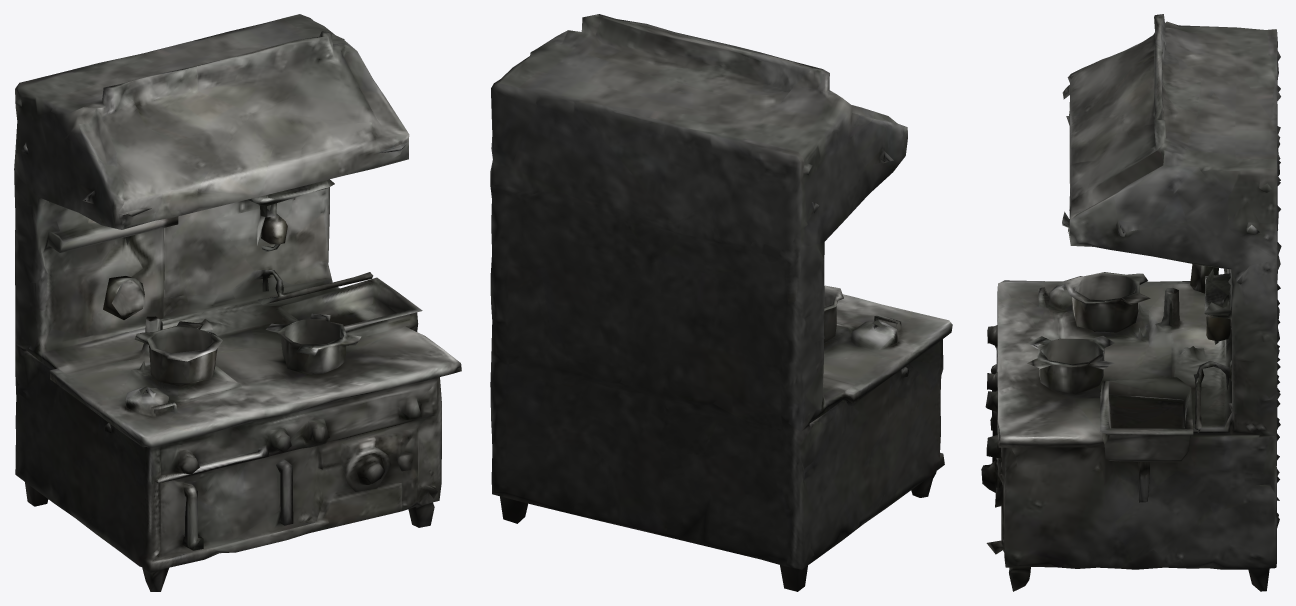
The model's file is xd_kitchen.glb.
3 views of the same model, side by side, from view 1: azimuth 30°, elevation 25°; view 2: azimuth 150°, elevation 25°; view 3: azimuth 270°, elevation 25° (orthographic). The views are drawn at different scales.
Parts seen in each view (by area): view 1: tripo_node_a76c2183-b655-4a5c-8f0c-c29981dc72ec; view 2: tripo_node_a76c2183-b655-4a5c-8f0c-c29981dc72ec; view 3: tripo_node_a76c2183-b655-4a5c-8f0c-c29981dc72ec.
Part boxes in pixels (x1,y1,x2,y2): tripo_node_a76c2183-b655-4a5c-8f0c-c29981dc72ec: [14, 14, 461, 591]; tripo_node_a76c2183-b655-4a5c-8f0c-c29981dc72ec: [490, 14, 952, 591]; tripo_node_a76c2183-b655-4a5c-8f0c-c29981dc72ec: [981, 14, 1281, 591].
Size of the model in its own units: 0.7737 by 1 by 0.597.
1 material, 1 textured.
